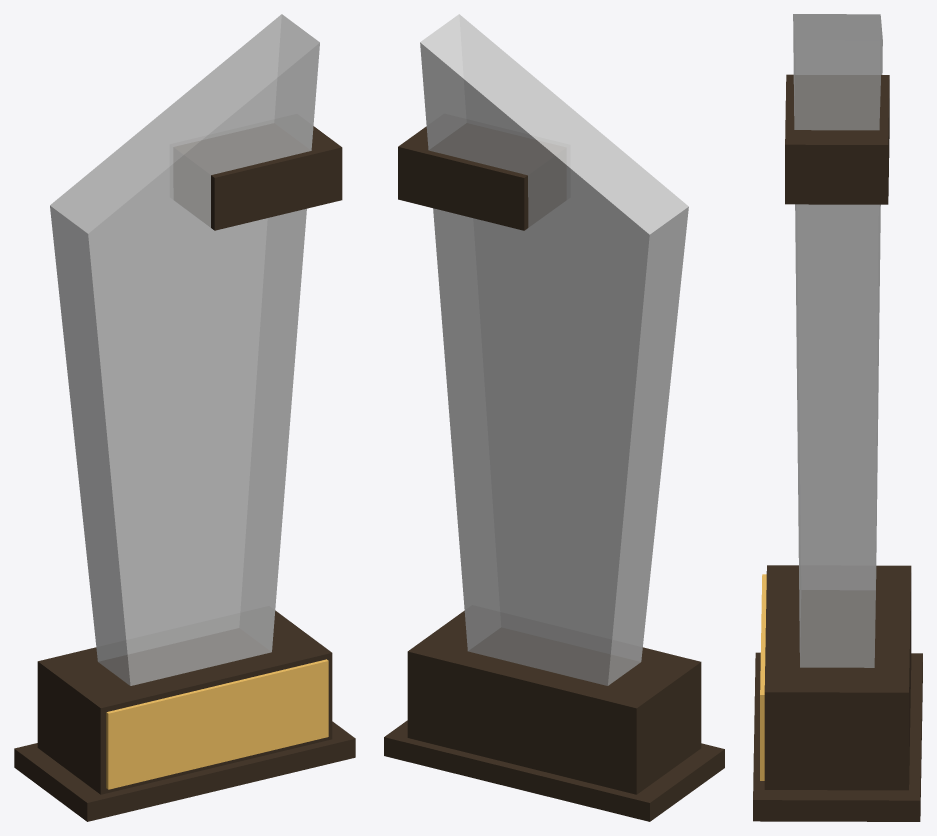
Rendered from award-glass.glb.
3 renders of one model, left to right at view 1: azimuth 30°, elevation 25°; view 2: azimuth 150°, elevation 25°; view 3: azimuth 270°, elevation 25°, orthographic. The views are drawn at different scales.
Parts seen in each view (by area): view 1: Object_7, Object_4, Object_5, Object_9; view 2: Object_7, Object_4, Object_9; view 3: Object_7, Object_4, Object_9, Object_5.
Boxes of the visible parts, x1,y1,x2,y2 form: Object_7: (50, 14, 319, 685); Object_4: (14, 610, 355, 821); Object_5: (106, 659, 328, 789); Object_9: (174, 123, 342, 230); Object_7: (420, 14, 688, 685); Object_4: (384, 610, 724, 821); Object_9: (398, 123, 565, 230); Object_7: (793, 14, 882, 667); Object_4: (753, 565, 922, 821); Object_9: (785, 74, 889, 204); Object_5: (760, 574, 766, 780).
Size of the model in its own units: 0.07 by 0.176 by 0.034.
